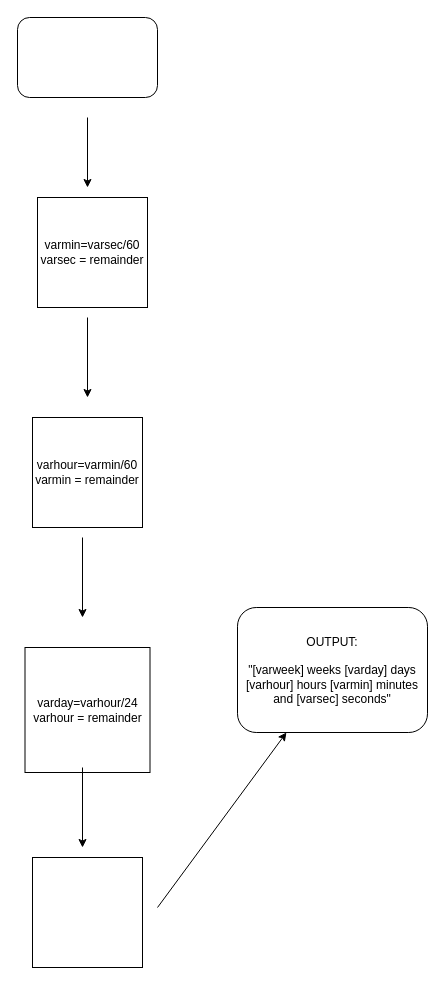
Some shapes in this 445 by 985 pixel diagram are drawn without their labels. Here are the shapes that lost their labels. From the top down, the centre of each, then its label:
[87,57]: INPUT: Integer in Sekunden "varsec"
[87,912]: varweek=varday/7 varday = remainder
